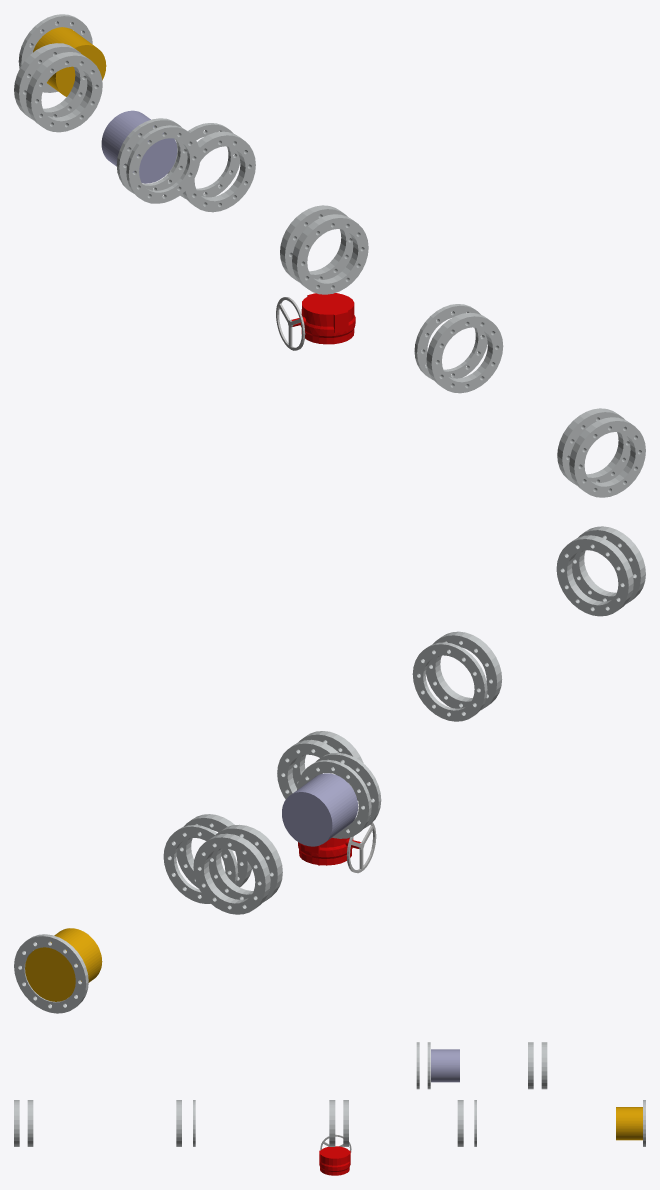
The picture shows the model from 3 angles, top to bottom: view 1: azimuth 30°, elevation 25°; view 2: azimuth 150°, elevation 25°; view 3: azimuth 270°, elevation 25°; orthographic projection. The views are drawn at different scales.
Size of the model in its own units: 1.05 by 1.12 by 6.19.
